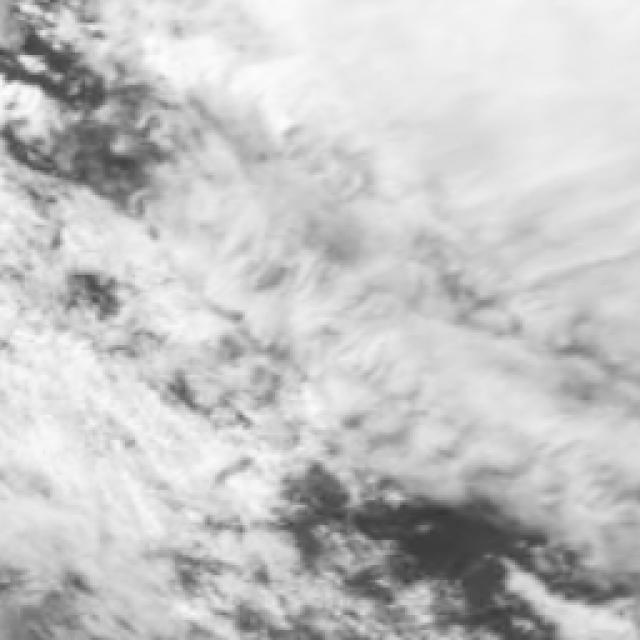CB: (191, 202, 445, 417), (18, 415, 218, 640), (444, 178, 640, 402), (231, 0, 456, 187), (434, 5, 640, 194), (0, 234, 190, 438), (447, 362, 640, 532), (64, 0, 269, 126)
